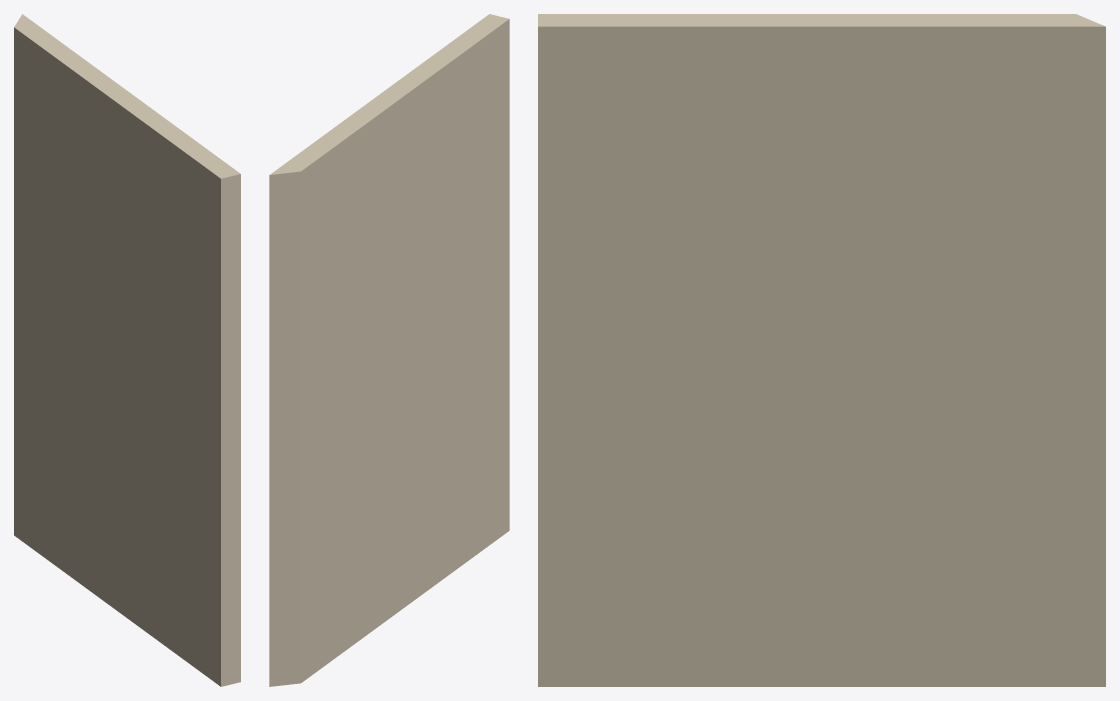
Rendered from wall-13.glb.
The picture shows the model from 3 angles, left to right: view 1: azimuth 30°, elevation 25°; view 2: azimuth 150°, elevation 25°; view 3: azimuth 270°, elevation 25°; orthographic projection. The views are drawn at different scales.
Bounding box in the file's own units: 0.3282 × 8 × 6.24.
